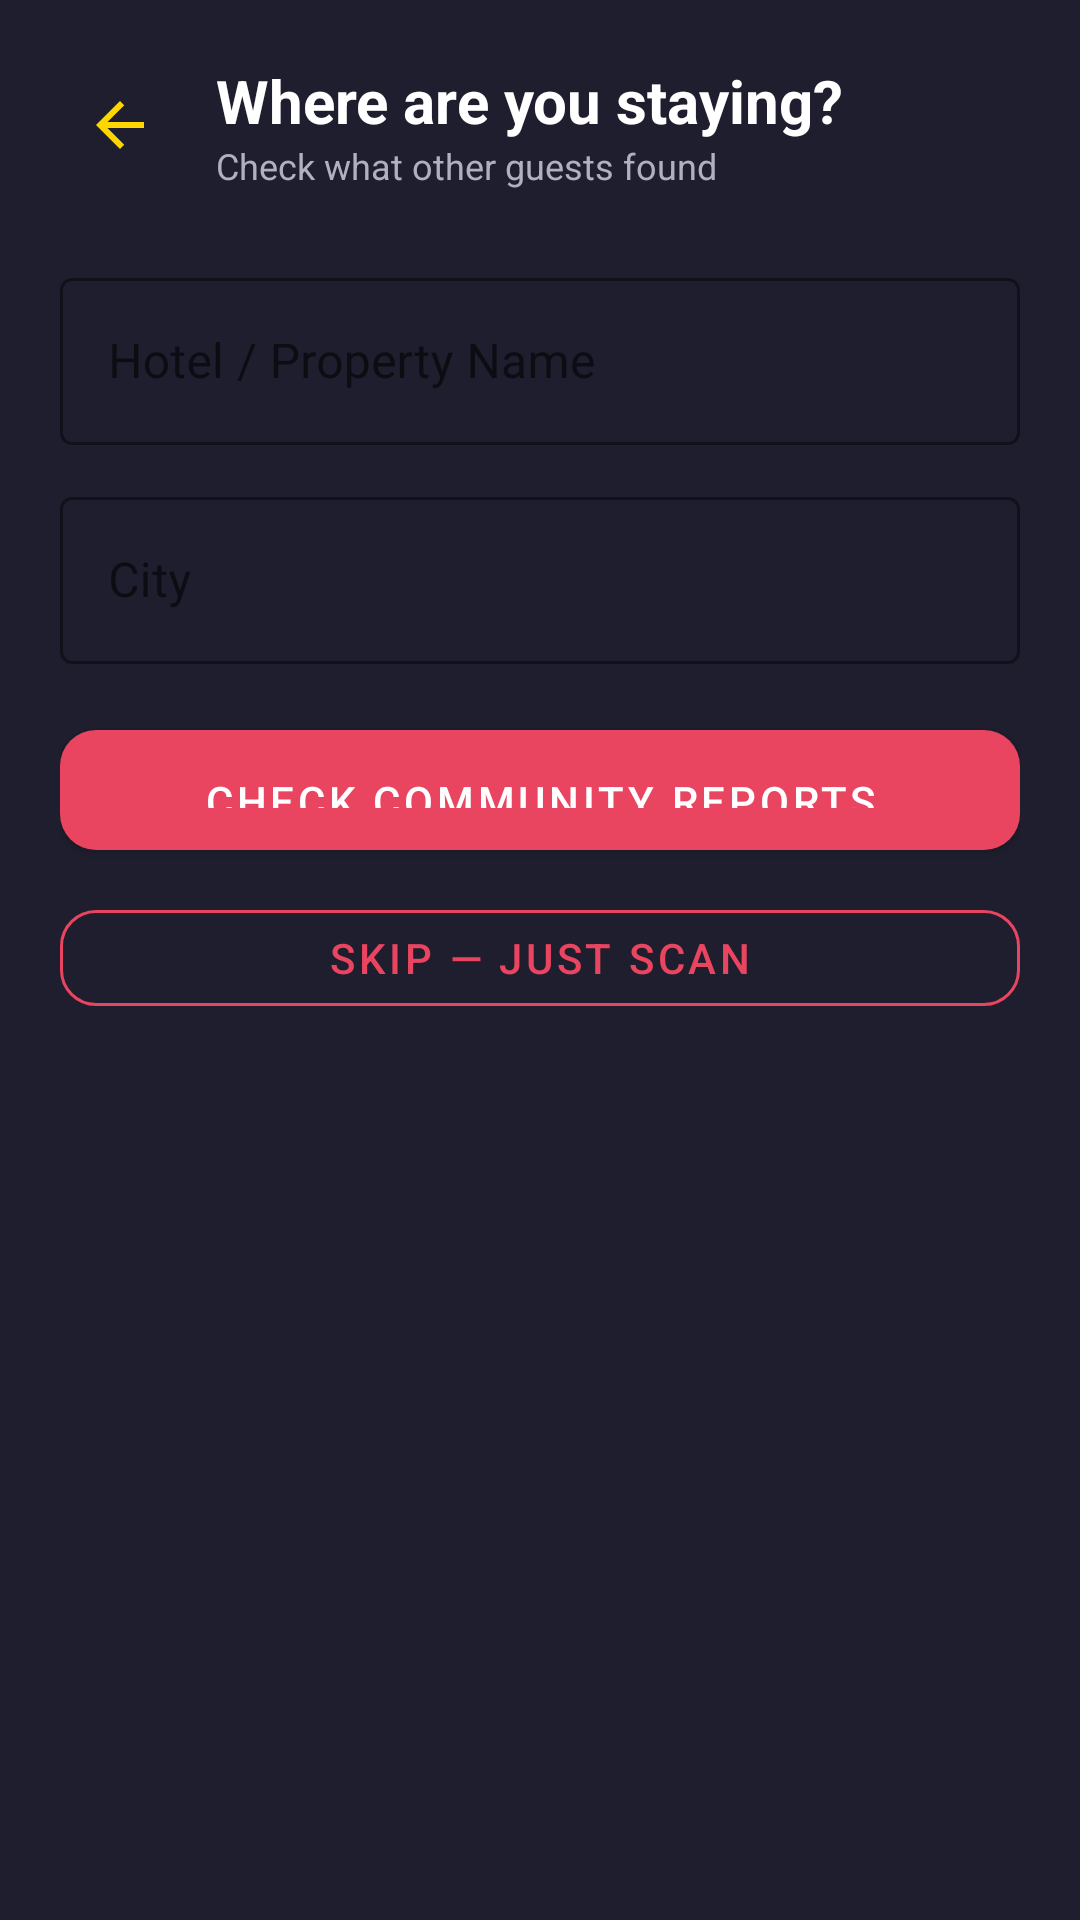

Screen size 1080w x 1920h. Icon name, then its box in pixels as (x1, y1, x2, y2):
back: (96, 101, 144, 149)
